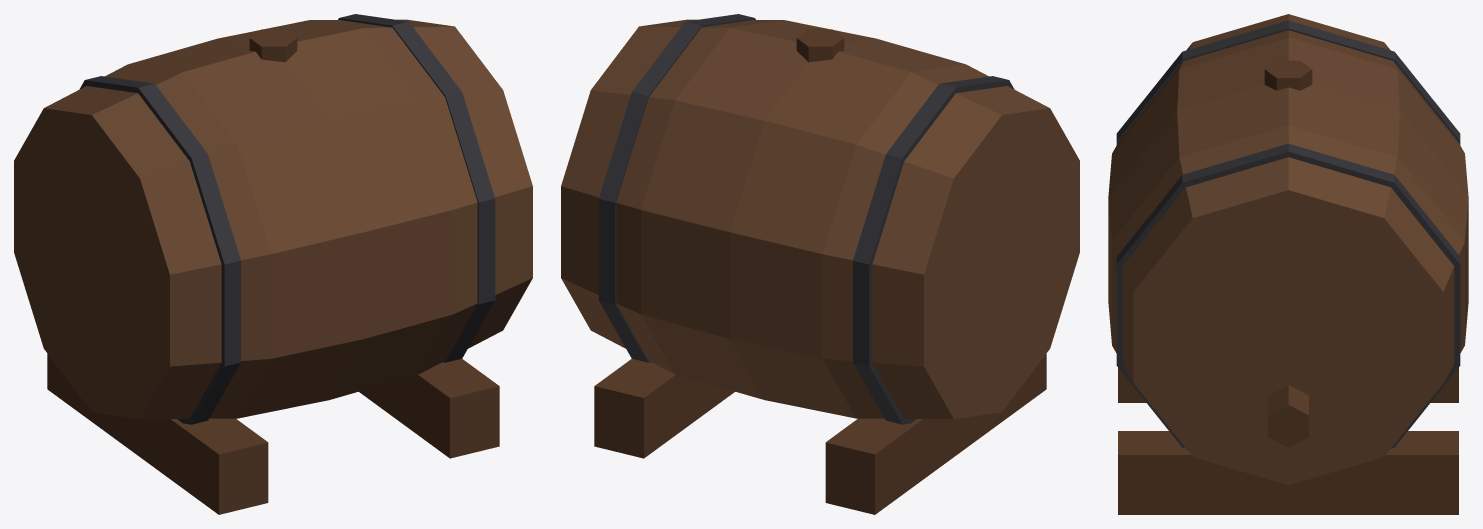
File: vfem2_mead_barrel.obj
The picture shows the model from 3 angles, left to right: view 1: azimuth 30°, elevation 25°; view 2: azimuth 150°, elevation 25°; view 3: azimuth 270°, elevation 25°; orthographic projection.
Visible parts, largest first — view 1: vfem2_mead_barrel; view 2: vfem2_mead_barrel; view 3: vfem2_mead_barrel.
Boxes of the visible parts, x1,y1,x2,y2 form: vfem2_mead_barrel: (14, 14, 532, 514); vfem2_mead_barrel: (561, 14, 1079, 514); vfem2_mead_barrel: (1108, 14, 1468, 514).
Bounding box in the file's own units: 0.98 × 0.88 × 0.7608.
